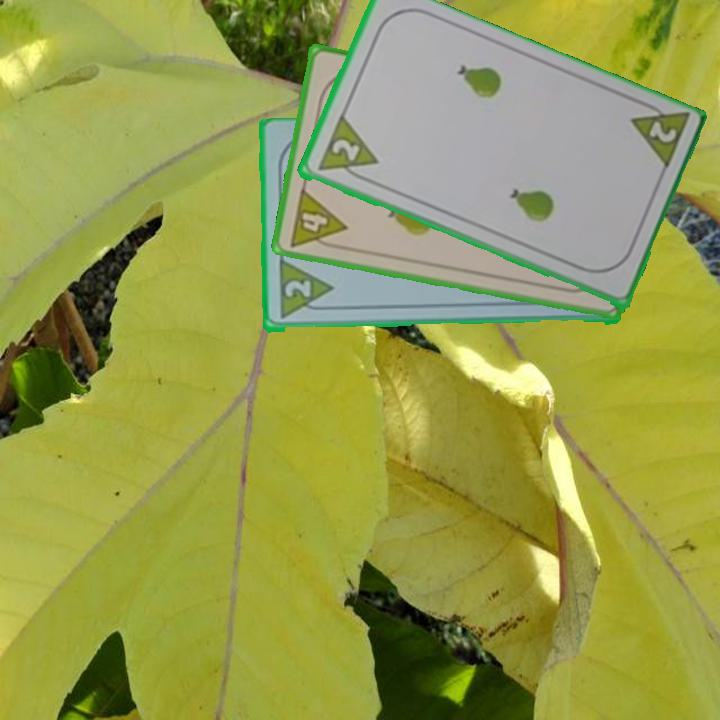2p: (626, 95, 692, 175), (313, 114, 381, 187), (275, 259, 335, 322)
4p: (285, 185, 349, 253)
